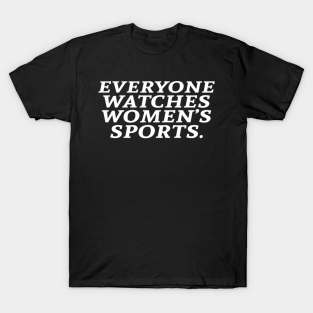design: (96, 78, 217, 140)
